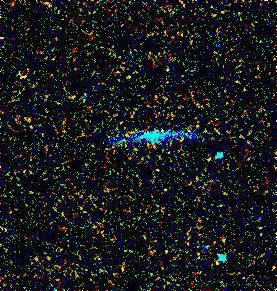star: (202, 250, 232, 280)
